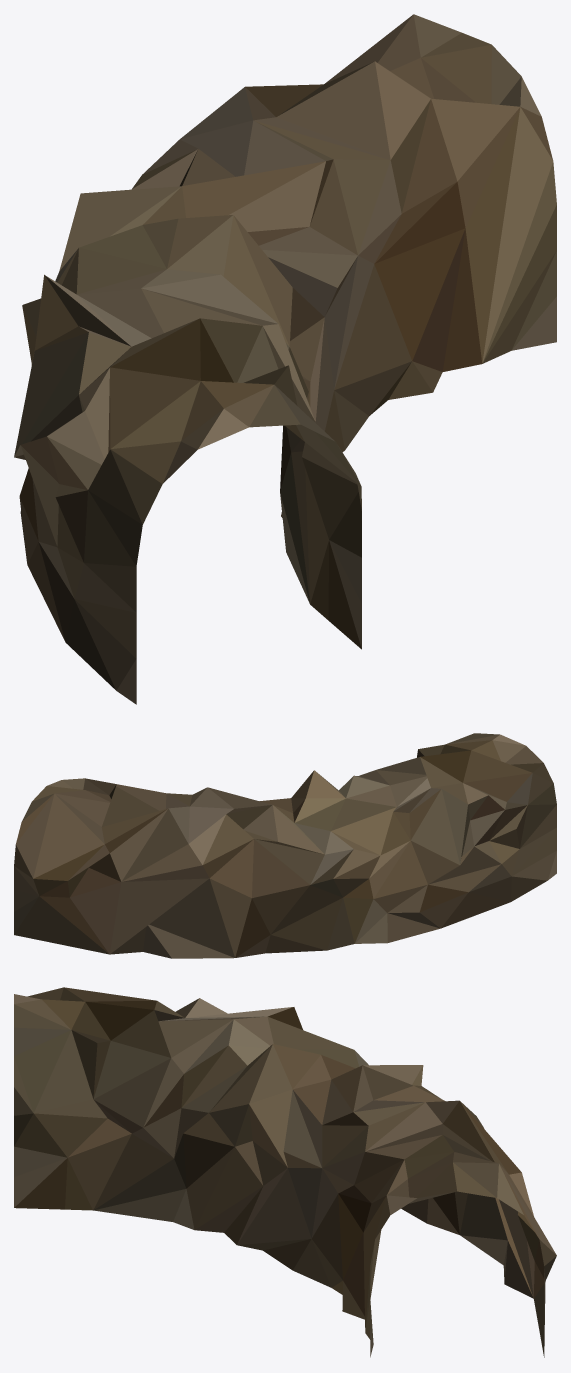
File: Cave-Turn20mA.fbx
3 views of the same model, one above another, from view 1: azimuth 30°, elevation 25°; view 2: azimuth 150°, elevation 25°; view 3: azimuth 270°, elevation 25° (orthographic). The views are drawn at different scales.
Visible parts, largest first — view 1: Cave-Turn20mA; view 2: Cave-Turn20mA; view 3: Cave-Turn20mA.
Boxes of the visible parts, <box> form: Cave-Turn20mA: <box>14,14,556,704</box>; Cave-Turn20mA: <box>14,733,556,958</box>; Cave-Turn20mA: <box>14,987,556,1357</box>.
Size of the model in its own units: 1525 by 588 by 1560.
